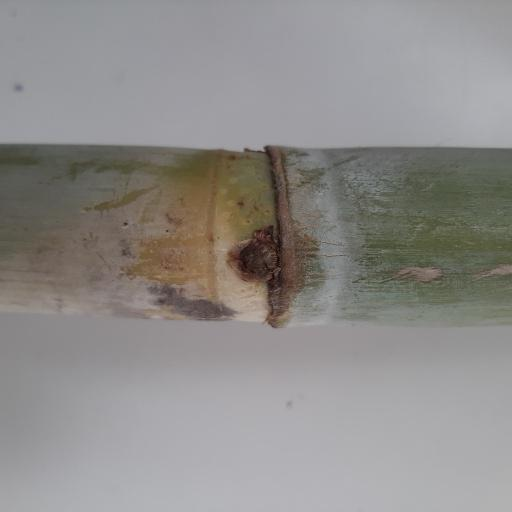Bud: (236, 239, 277, 279)
